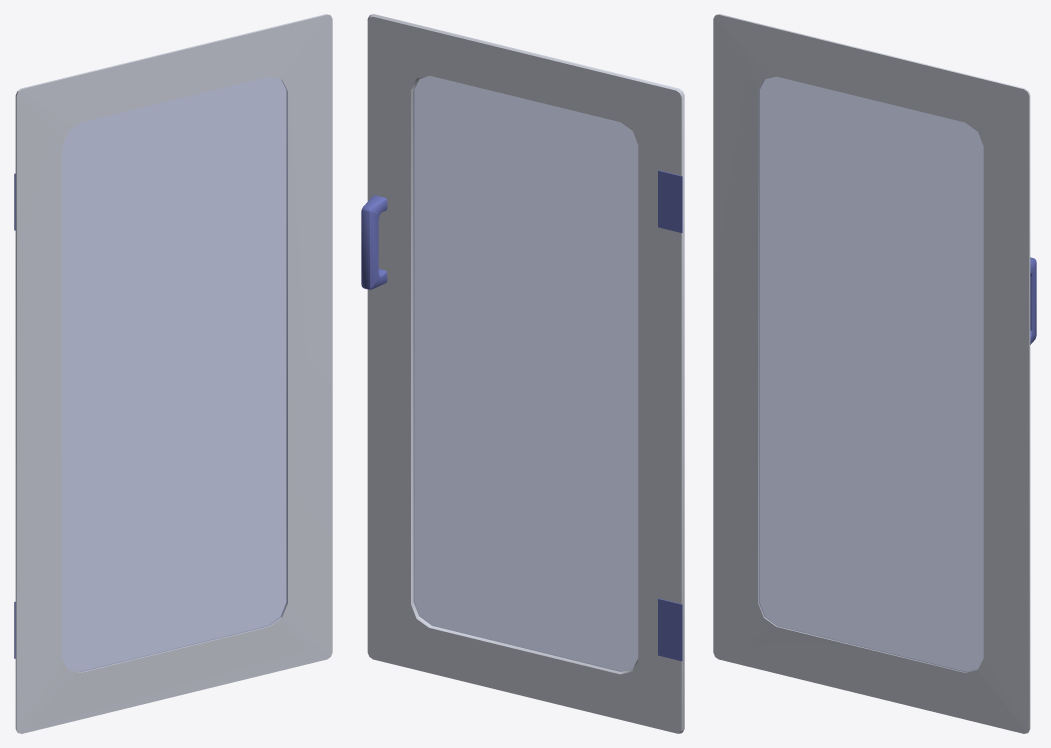
The model's file is SM_药品柜右门.fbx.
3 renders of one model, left to right at view 1: azimuth 30°, elevation 25°; view 2: azimuth 150°, elevation 25°; view 3: azimuth 330°, elevation 25°, orthographic.
Visible parts, largest first — view 1: SM_药品柜右门; view 2: SM_药品柜右门; view 3: SM_药品柜右门.
Boxes of the visible parts, x1,y1,x2,y2 form: SM_药品柜右门: (14, 14, 332, 733); SM_药品柜右门: (361, 14, 684, 733); SM_药品柜右门: (713, 14, 1036, 733).
Bounding box in the file's own units: 0.4866 × 0.949 × 0.0446.
